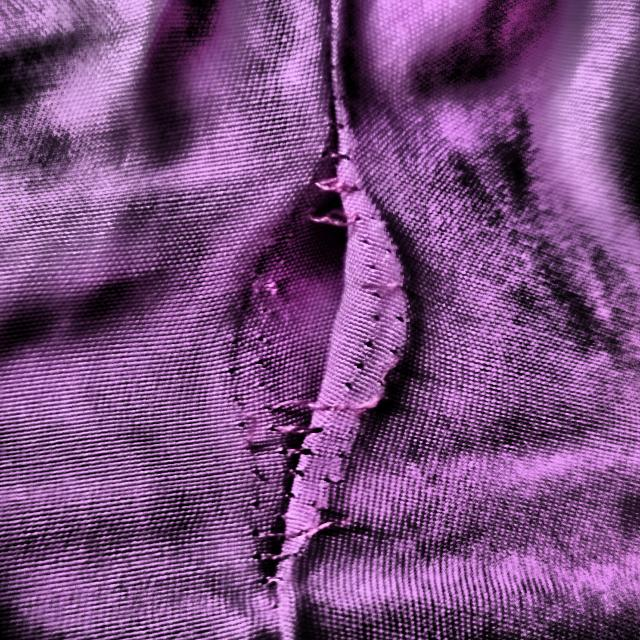seam: (99, 118, 438, 602)
